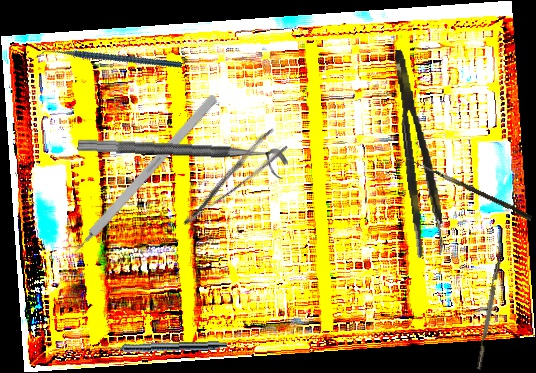Chopper: (35, 5, 183, 116), (470, 245, 505, 370)
Dressing Forceps: (169, 127, 290, 228)
Fixation Ring: (76, 137, 289, 181)
Handpiece: (102, 337, 228, 355)
Hook Surgical: (58, 93, 219, 271), (403, 157, 534, 221)
Tissue Forceps: (391, 46, 447, 259)
